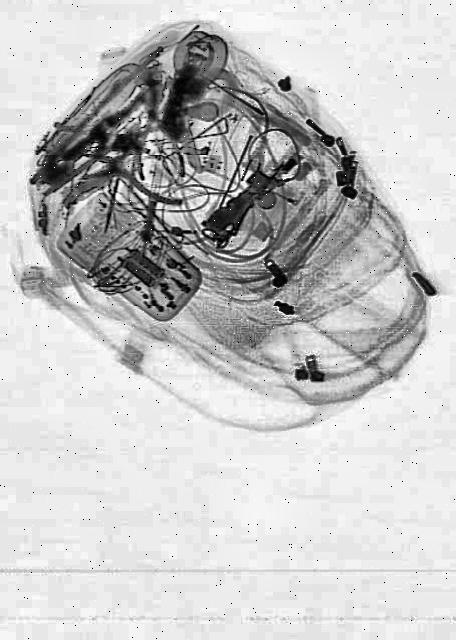Pliers: (76, 124, 182, 208)
